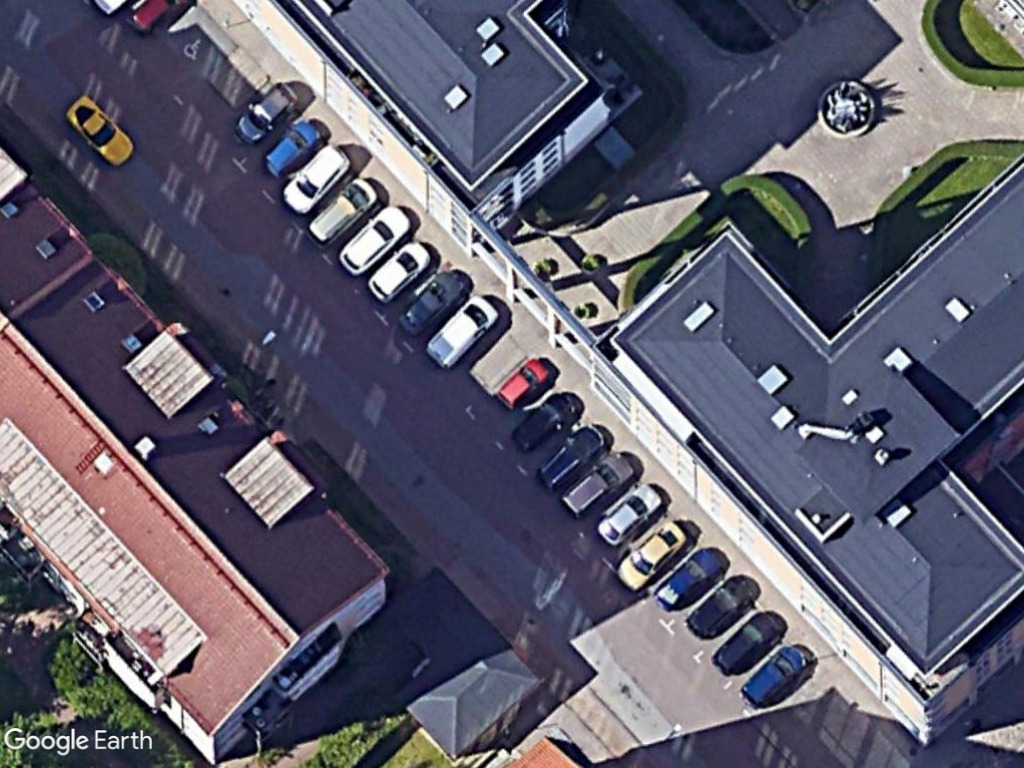car: (615, 513, 692, 595), (63, 91, 140, 171), (278, 138, 352, 217), (305, 171, 379, 250), (507, 384, 583, 459), (705, 606, 779, 683), (392, 263, 465, 340), (339, 204, 414, 278), (681, 574, 756, 648), (740, 638, 815, 712), (561, 447, 637, 520), (650, 542, 727, 612), (534, 420, 607, 492), (590, 480, 665, 549), (234, 76, 303, 147), (363, 236, 434, 304), (261, 115, 325, 183), (491, 353, 555, 413)
van: (425, 292, 500, 373)
